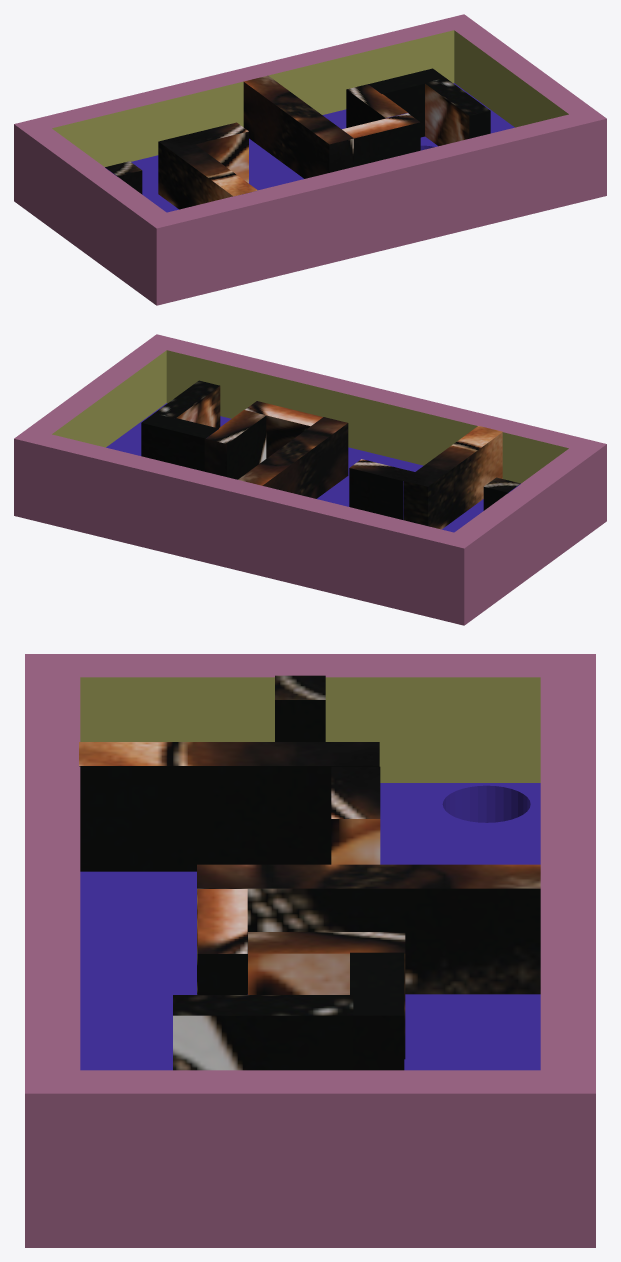
File: holes.obj
3 renders of one model, top to bottom at view 1: azimuth 30°, elevation 25°; view 2: azimuth 150°, elevation 25°; view 3: azimuth 270°, elevation 25°, orthographic. The views are drawn at different scales.
Parts seen in each view (by area): view 1: Cube; view 2: Cube; view 3: Cube.
Part boxes in pixels (x1,y1,x2,y2): Cube: (14,14,606,305); Cube: (14,334,606,625); Cube: (25,654,595,1247).
Size of the model in its own units: 48.36 by 7.99 by 26.54.
